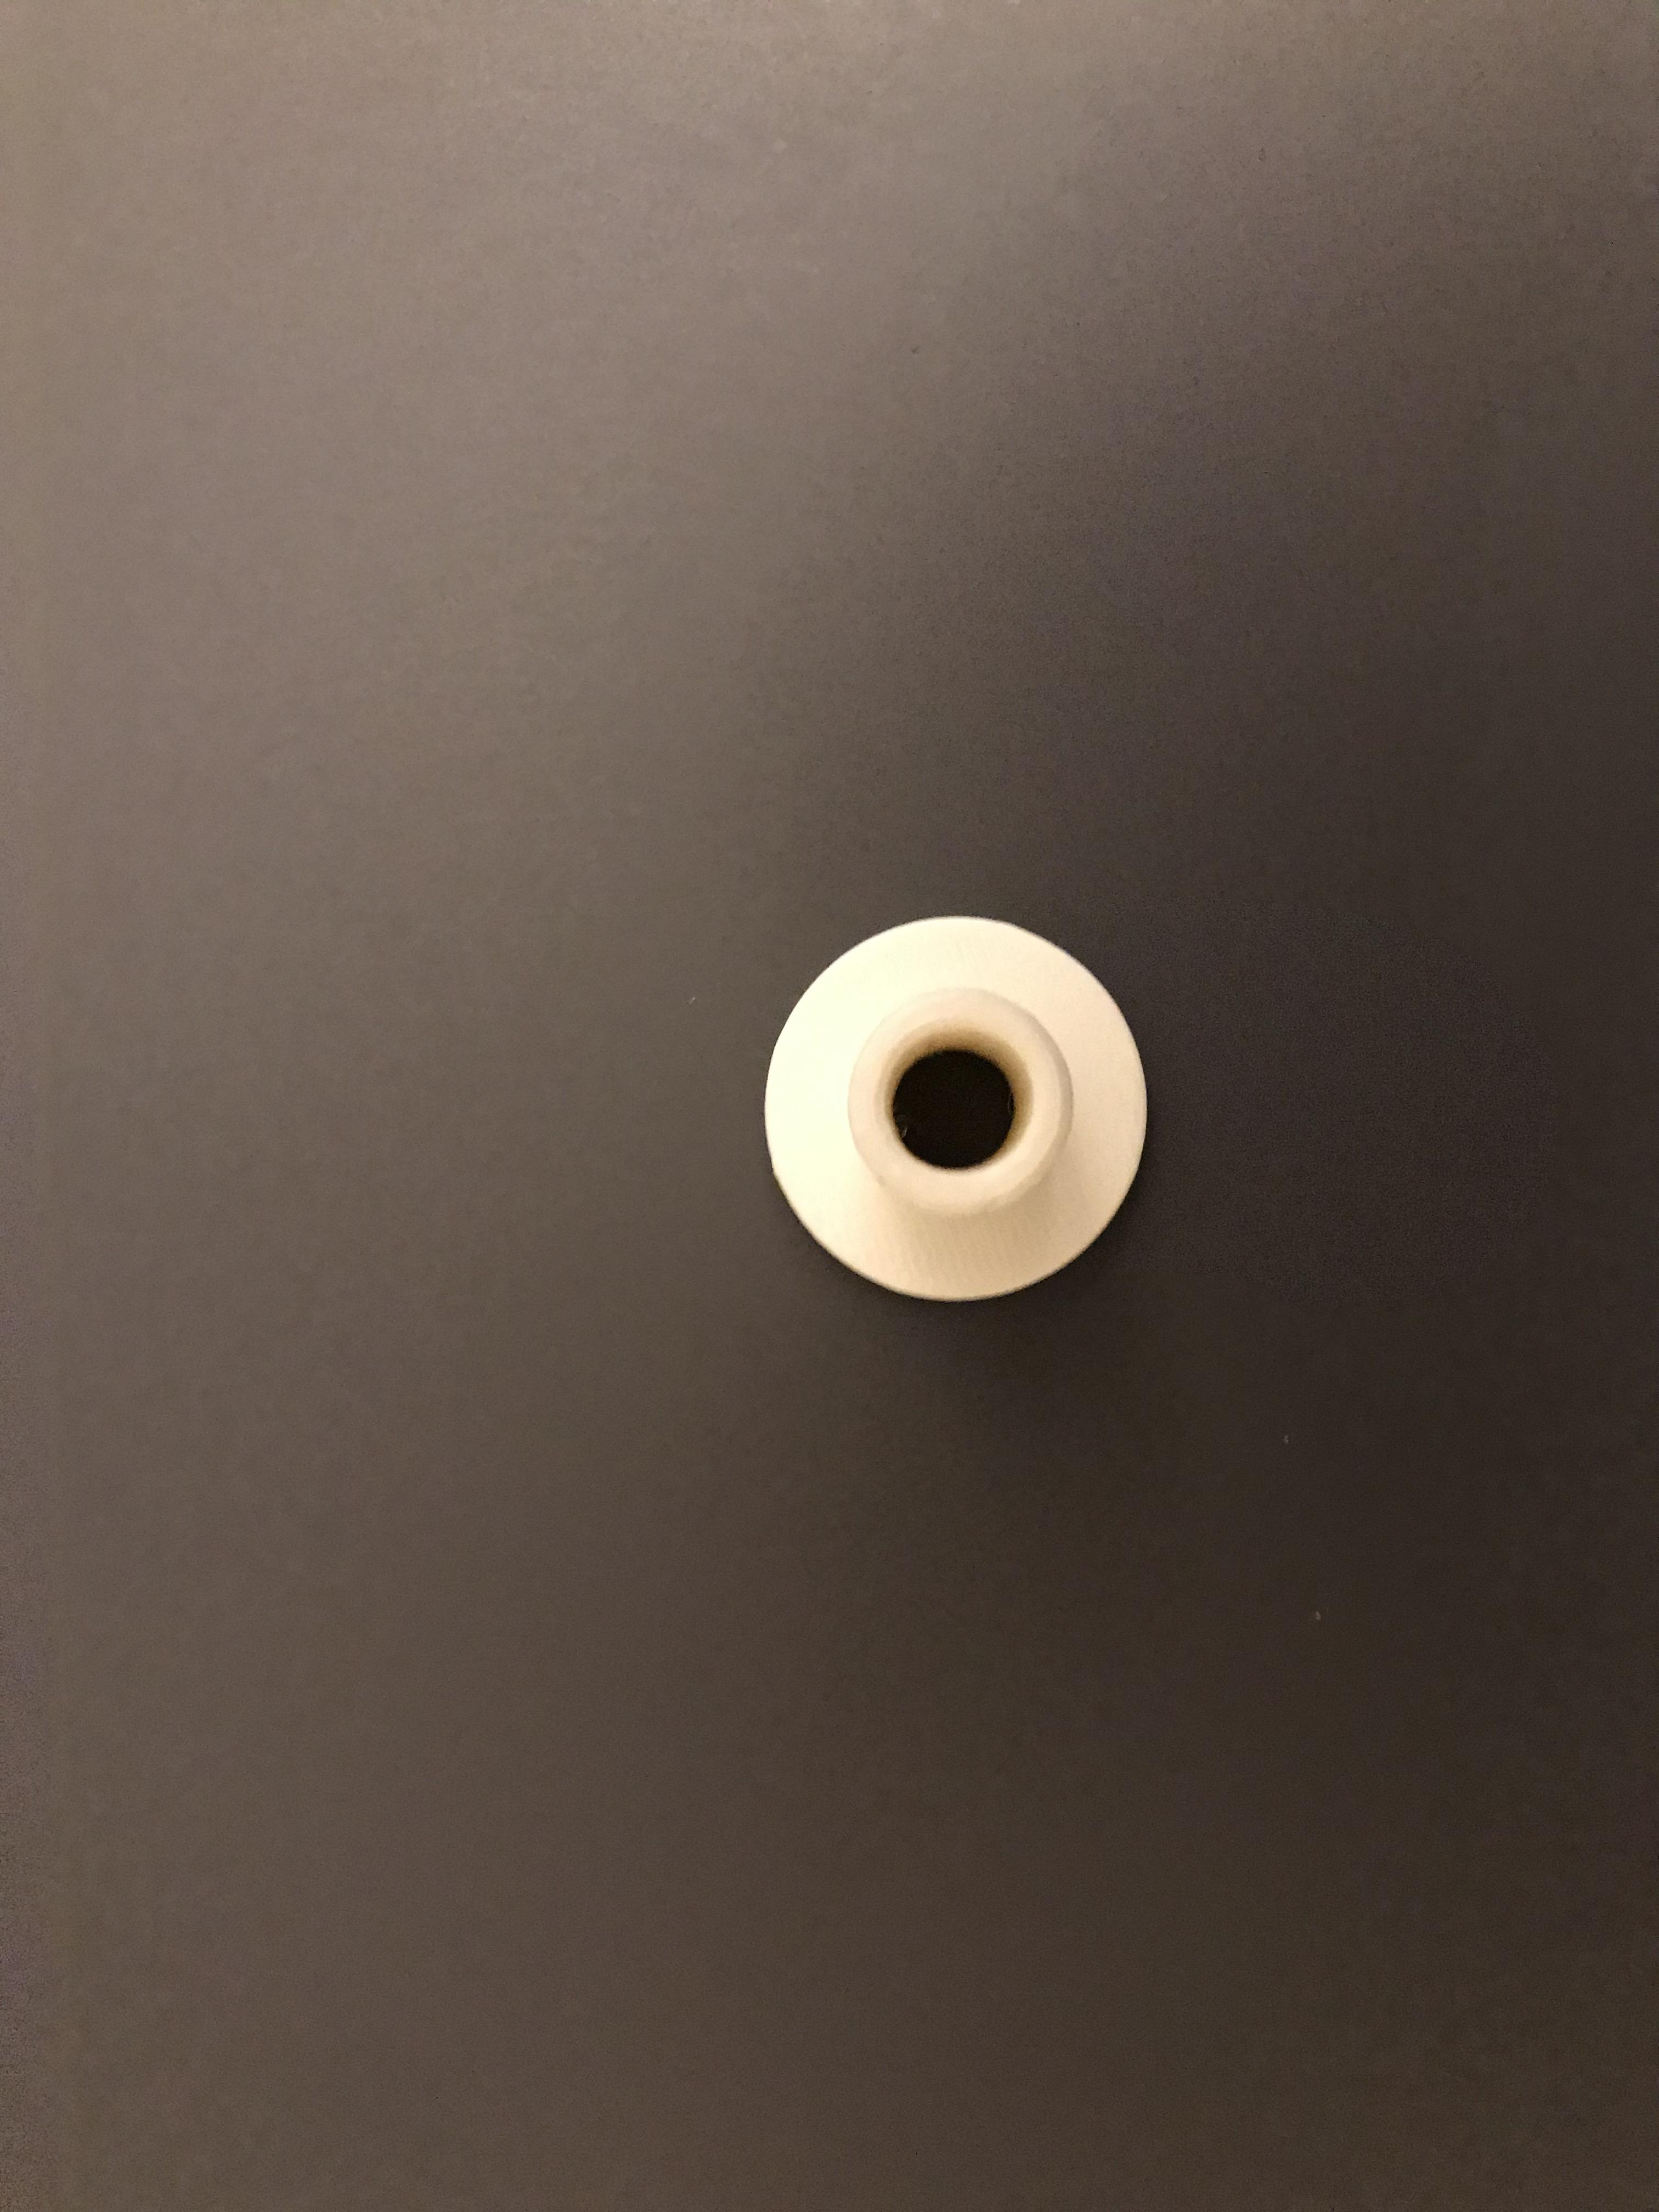White Cone: (756, 899, 1162, 1320)
